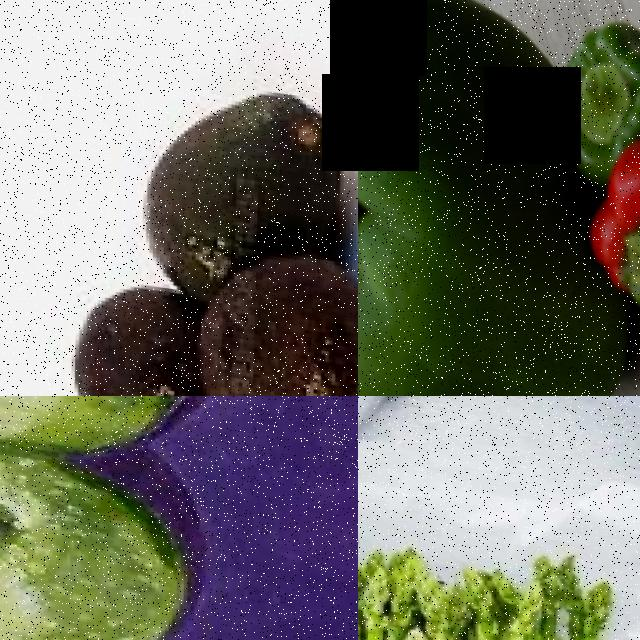apple: (0, 427, 186, 640)
asparagus: (565, 567, 620, 640), (517, 568, 553, 640), (359, 583, 397, 640)
avocado: (149, 38, 341, 284), (68, 263, 265, 396), (213, 250, 358, 396)
bell pepper: (358, 0, 542, 396), (572, 137, 640, 311), (561, 0, 640, 138)
